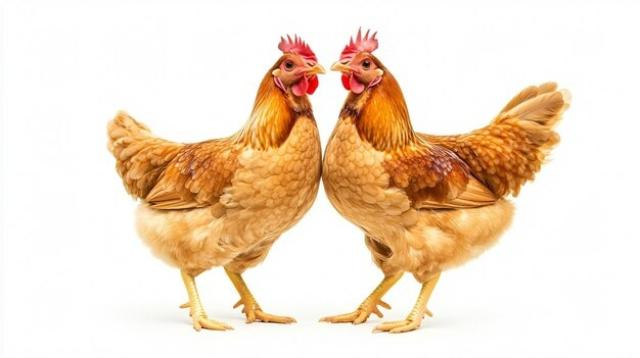Chicken: (323, 29, 572, 333), (107, 34, 325, 333)
